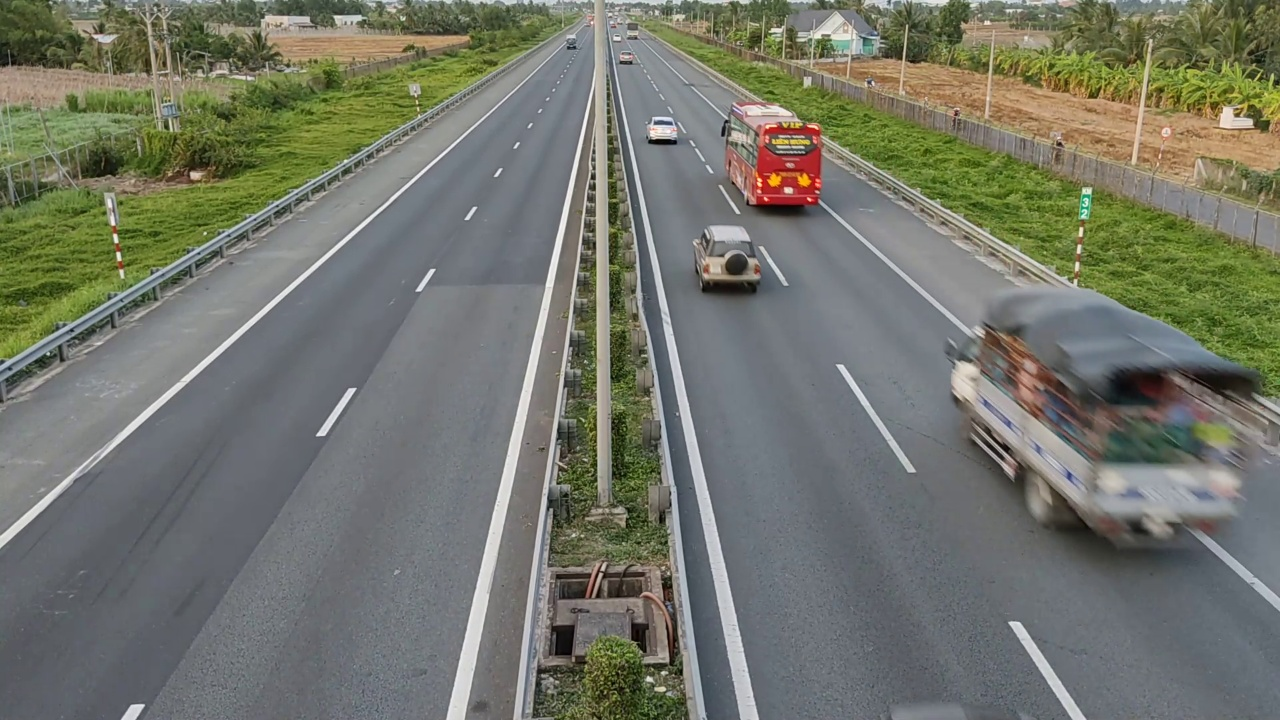bus: (722, 101, 823, 206)
car: (693, 224, 762, 292), (645, 115, 679, 144)
truck: (945, 284, 1274, 554)
